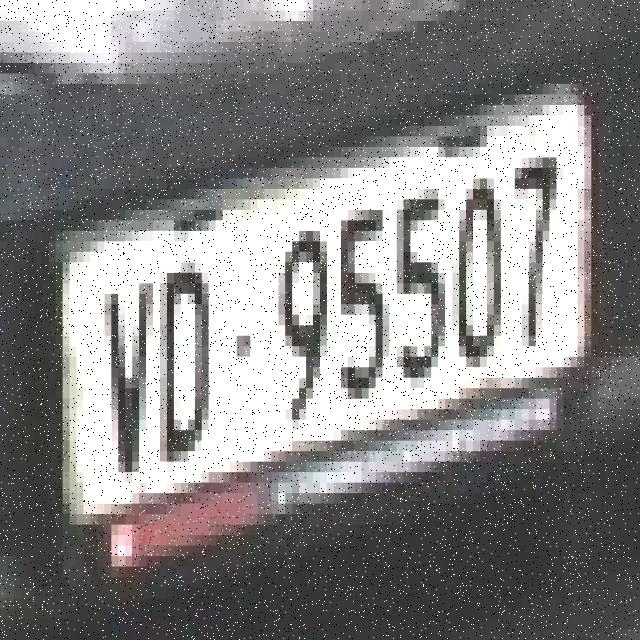licenseplate: (48, 82, 616, 530)
